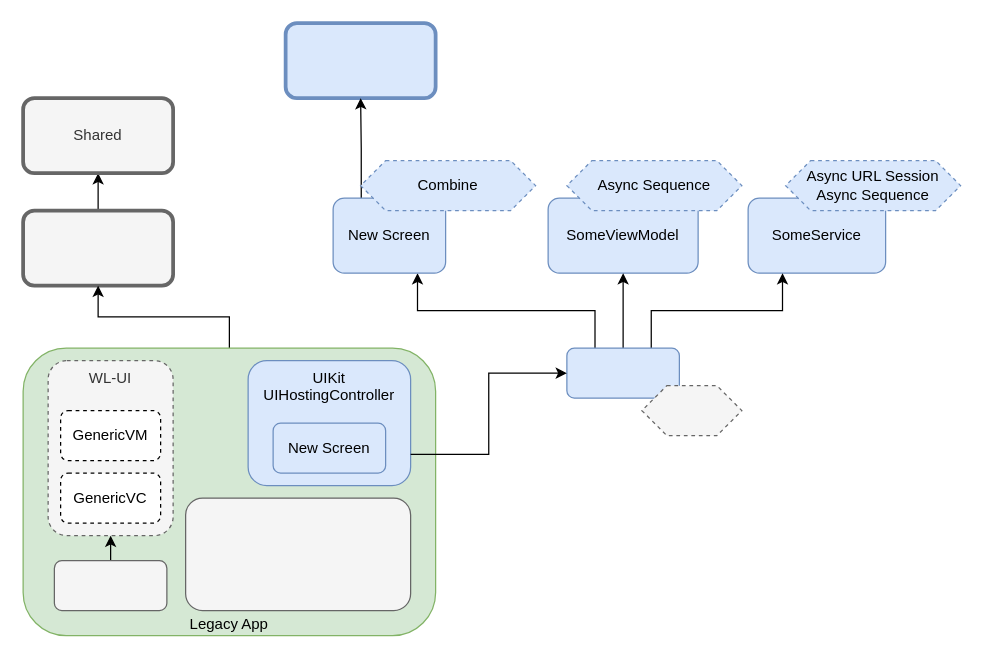
Some shapes in this 983 by 658 pixel diagram are drawn without their labels. Here are the shapes that lost their labels. From the top down, the centre of each, then its label:
point (360, 60): DesignSystem
point (97, 247): Core
point (622, 372): New Story assembly
point (691, 410): Swinject
point (297, 554): ViewControllerProvider
point (110, 585): Legacy Screen VC / VM / ...
